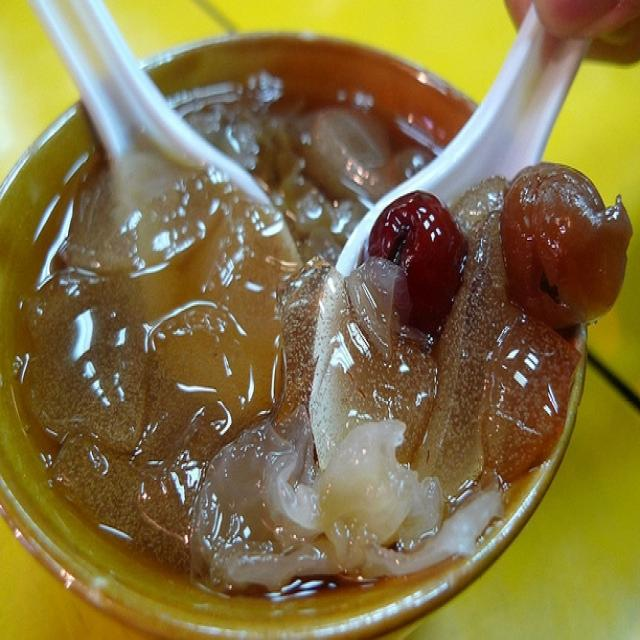蛋糕甜品: (22, 34, 599, 637)
